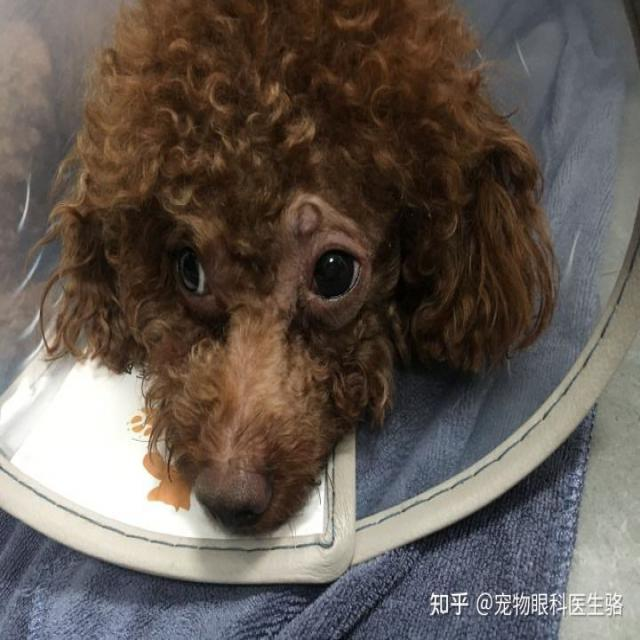eye: (304, 239, 365, 308), (171, 242, 216, 304)
